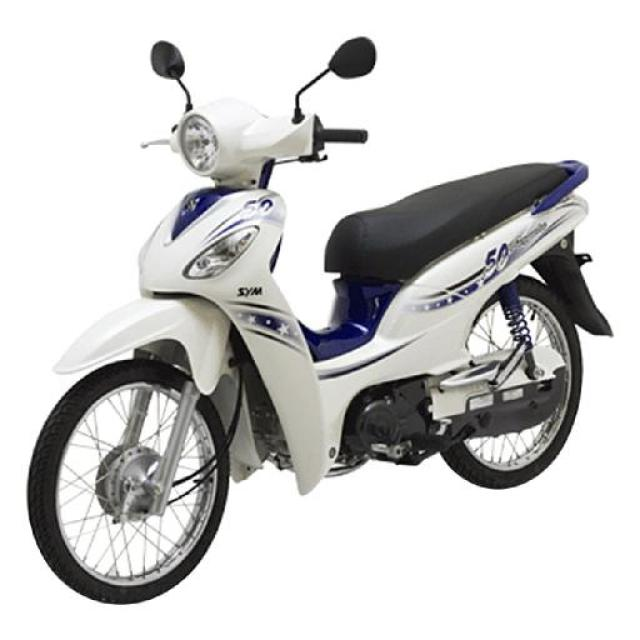All: (18, 88, 620, 610)
Head: (177, 100, 365, 182)
Tail: (508, 147, 598, 235)
